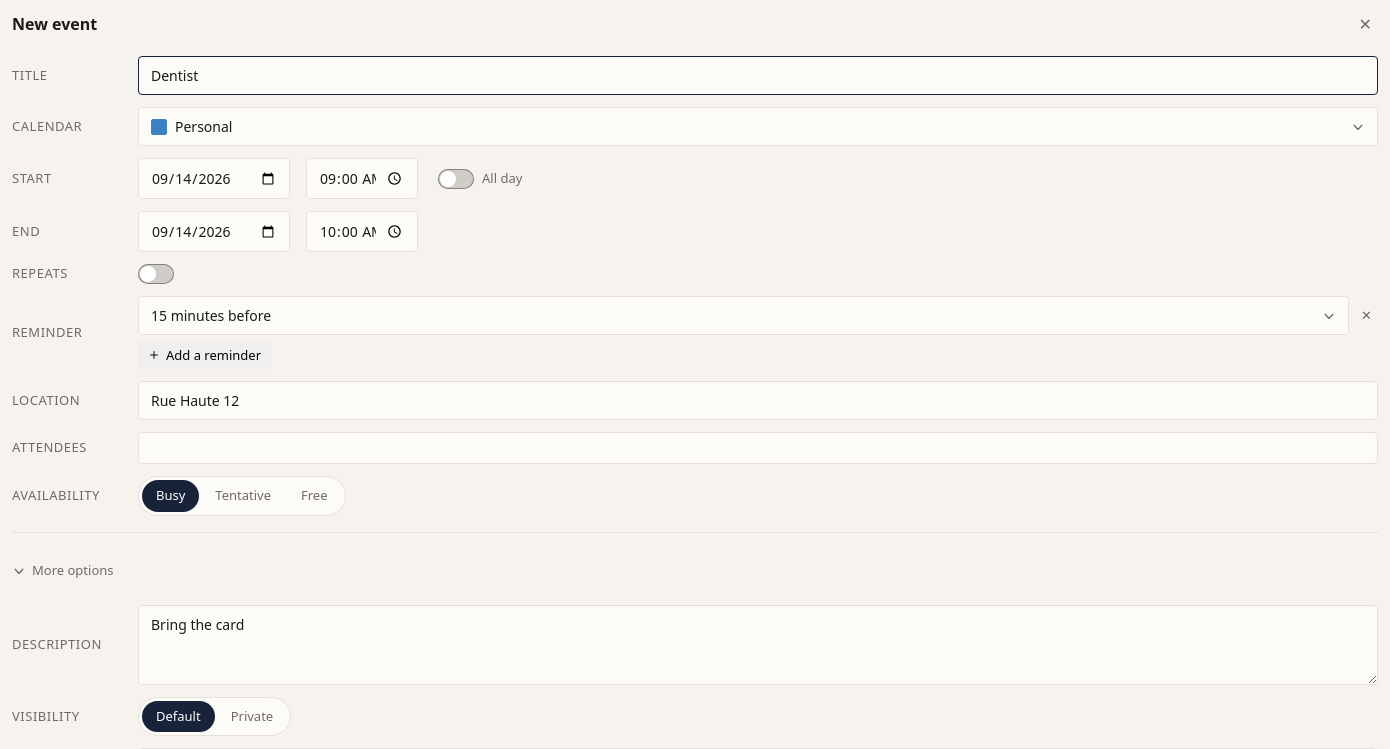
Scenario: EventEditor › opens More options on a description, and picks a calendar from the coloured list
The image size is (1390, 749).
Check: the text box labelled "Description" holds "Bring the card", box [138,604,1378,684]
Click the dropdown named "Calendar": click(204, 126) [138,107,1378,146]
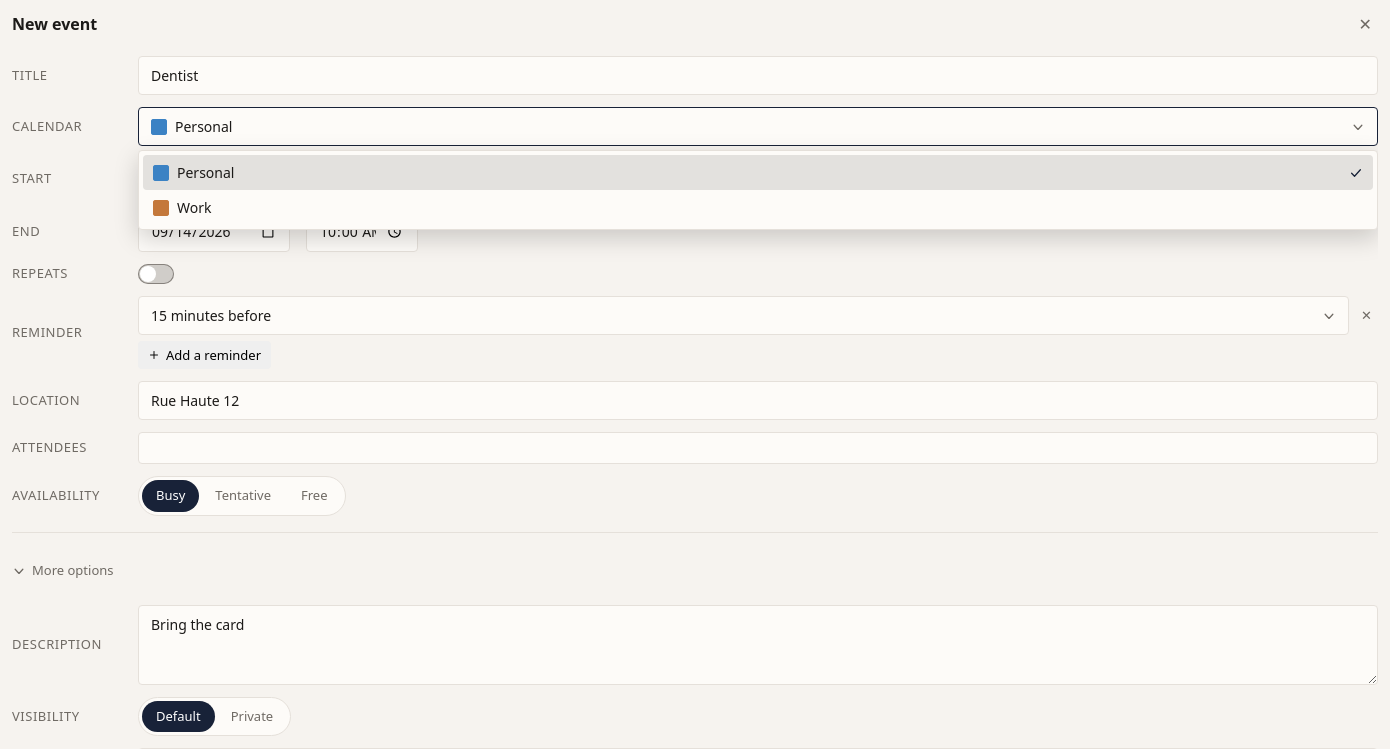
Click the option "Work": click(182, 208) [153,198,212,217]
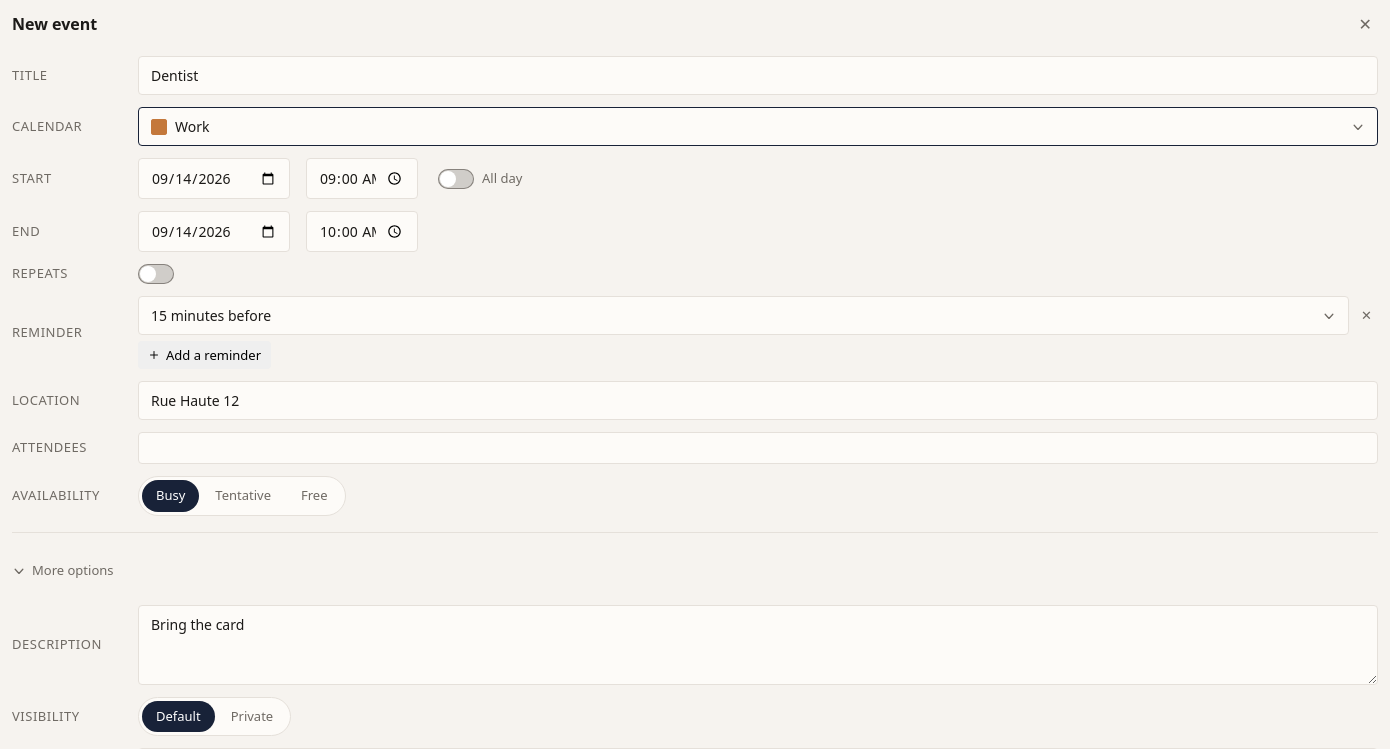
Check: the dropdown named "Calendar" reads "Work", box [138,107,1378,146]
